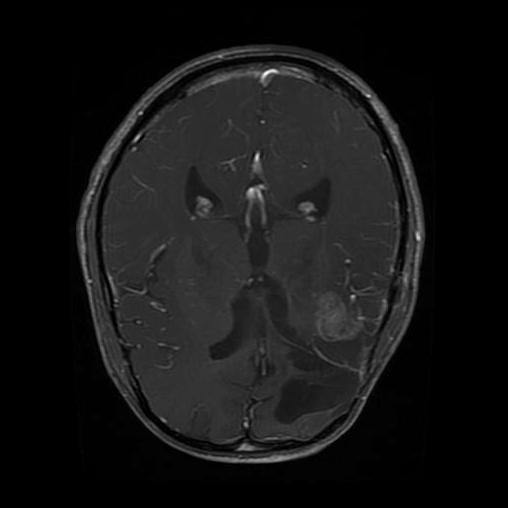Tumour-Glioma: (252, 341, 347, 424)
